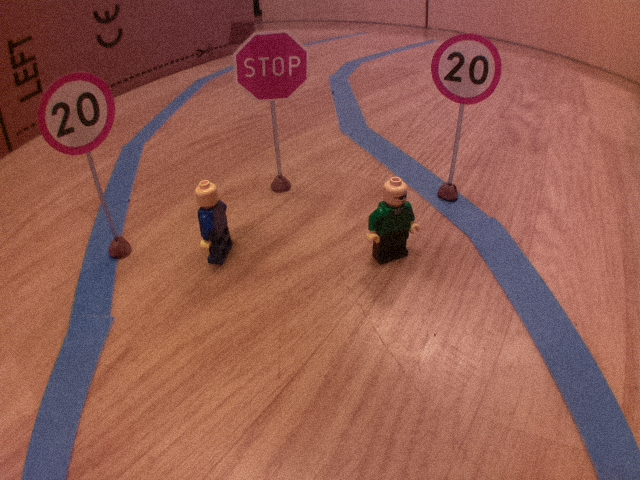LEGO_person: (364, 174, 423, 268), (193, 174, 241, 274)
ogr_20: (34, 67, 118, 161), (427, 31, 505, 106)
stop: (230, 28, 311, 104)
